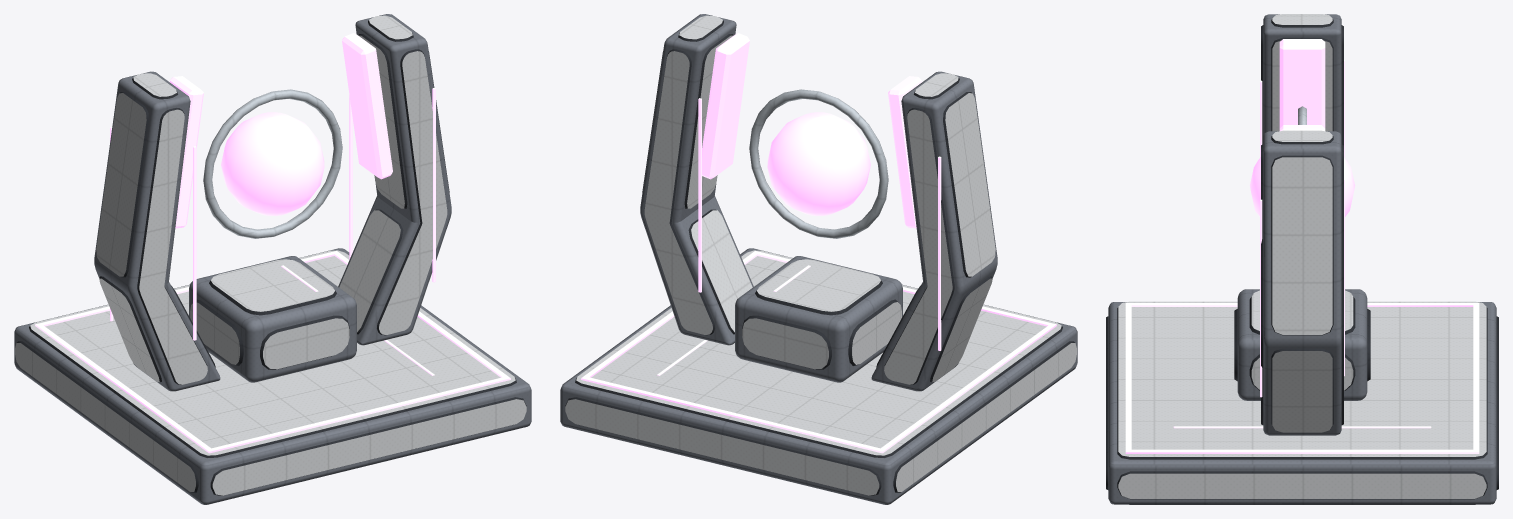
File: R4X_Blink.glb
3 renders of one model, left to right at view 1: azimuth 30°, elevation 25°; view 2: azimuth 150°, elevation 25°; view 3: azimuth 270°, elevation 25°, orthographic.
Parts seen in each view (by area): view 1: R4X_Blink_Body; view 2: R4X_Blink_Body; view 3: R4X_Blink_Body.
Boxes of the visible parts, bbox=[...] form: R4X_Blink_Body: bbox=[14, 14, 531, 504]; R4X_Blink_Body: bbox=[560, 14, 1077, 504]; R4X_Blink_Body: bbox=[1106, 14, 1498, 504].
Size of the model in its own units: 0.52 by 0.51 by 0.52.
Materials: 5 (4 with a texture image).
